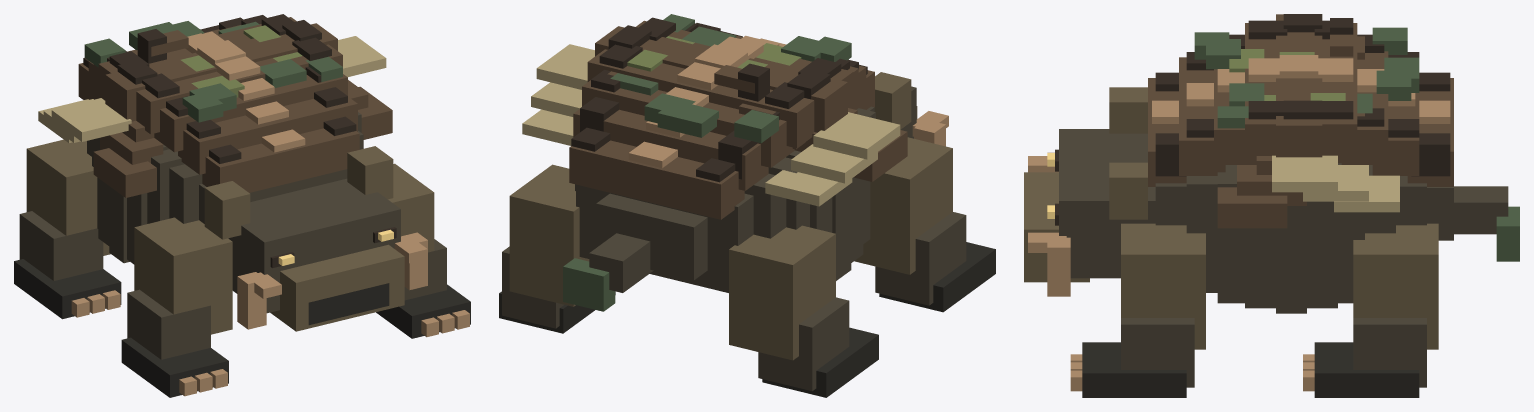
File: rootback_beast.glb
3 renders of one model, left to right at view 1: azimuth 30°, elevation 25°; view 2: azimuth 150°, elevation 25°; view 3: azimuth 270°, elevation 25°, orthographic. The views are drawn at different scales.
Visible parts, largest first — view 1: rootback_beast/core, rootback_beast/head, rootback_beast/locomotion_fore_-1, rootback_beast/locomotion_hind_-1, rootback_beast/torso, rootback_beast/locomotion_fore_1, rootback_beast/fungal_shelf_-1, rootback_beast/fungal_shelf_1, rootback_beast/back_sapling; view 2: rootback_beast/core, rootback_beast/locomotion_hind_-1, rootback_beast/torso, rootback_beast/locomotion_fore_-1, rootback_beast/locomotion_hind_1, rootback_beast/fungal_shelf_-1, rootback_beast/tail, rootback_beast/fungal_shelf_1, rootback_beast/head, rootback_beast/back_sapling; view 3: rootback_beast/core, rootback_beast/torso, rootback_beast/head, rootback_beast/locomotion_fore_1, rootback_beast/locomotion_hind_1, rootback_beast/fungal_shelf_1, rootback_beast/tail, rootback_beast/back_sapling.
Boxes of the visible parts, left/top/right/bottom form: rootback_beast/core: left=78, top=14, right=392, bottom=197; rootback_beast/head: left=204, top=146, right=427, bottom=331; rootback_beast/locomotion_fore_-1: left=121, top=217, right=232, bottom=397; rootback_beast/locomotion_hind_-1: left=14, top=139, right=121, bottom=319; rootback_beast/torso: left=87, top=112, right=363, bottom=264; rootback_beast/locomotion_fore_1: left=376, top=163, right=470, bottom=338; rootback_beast/fungal_shelf_-1: left=38, top=98, right=131, bottom=142; rootback_beast/fungal_shelf_1: left=338, top=36, right=386, bottom=76; rootback_beast/back_sapling: left=137, top=29, right=188, bottom=63; rootback_beast/core: left=569, top=14, right=907, bottom=219; rootback_beast/locomotion_hind_-1: left=729, top=225, right=878, bottom=397; rootback_beast/torso: left=575, top=106, right=875, bottom=292; rootback_beast/locomotion_fore_-1: left=854, top=137, right=995, bottom=312; rootback_beast/locomotion_hind_1: left=499, top=164, right=615, bottom=333; rootback_beast/fungal_shelf_-1: left=765, top=112, right=900, bottom=206; rootback_beast/tail: left=563, top=233, right=653, bottom=311; rootback_beast/fungal_shelf_1: left=522, top=44, right=594, bottom=145; rootback_beast/head: left=874, top=72, right=948, bottom=146; rootback_beast/back_sapling: left=714, top=63, right=769, bottom=101; rootback_beast/core: left=1148, top=14, right=1453, bottom=228; rootback_beast/torso: left=1128, top=142, right=1453, bottom=313; rootback_beast/head: left=1024, top=87, right=1155, bottom=296; rootback_beast/locomotion_fore_1: left=1070, top=223, right=1205, bottom=397; rootback_beast/locomotion_hind_1: left=1303, top=223, right=1438, bottom=397; rootback_beast/fungal_shelf_1: left=1272, top=155, right=1399, bottom=212; rootback_beast/tail: left=1454, top=186, right=1519, bottom=261; rootback_beast/back_sapling: left=1330, top=18, right=1353, bottom=56.
Bounding box in the file's own units: 3.06 × 2.41 × 4.
